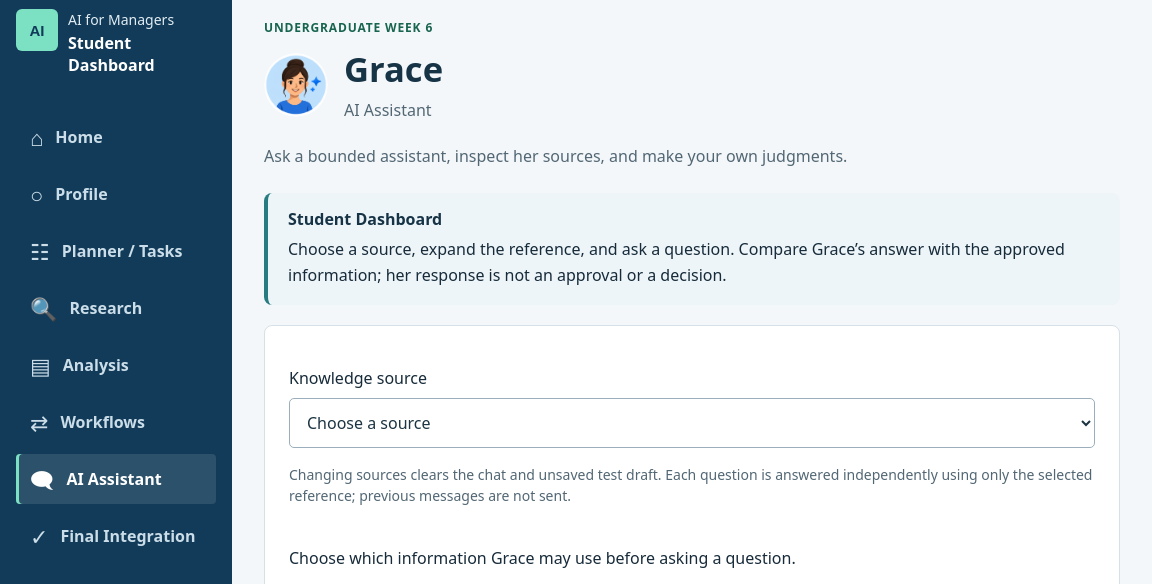
Test case: Week 6 Grace › shows an error with no fabricated answer for invalid failure
(page scrolled)
Select "Coastal Life Employee Information" in the dropdown labelled "Knowledge source" at (692,423), box top-left (289, 398), bottom-right (1095, 448)
(page scrolled)
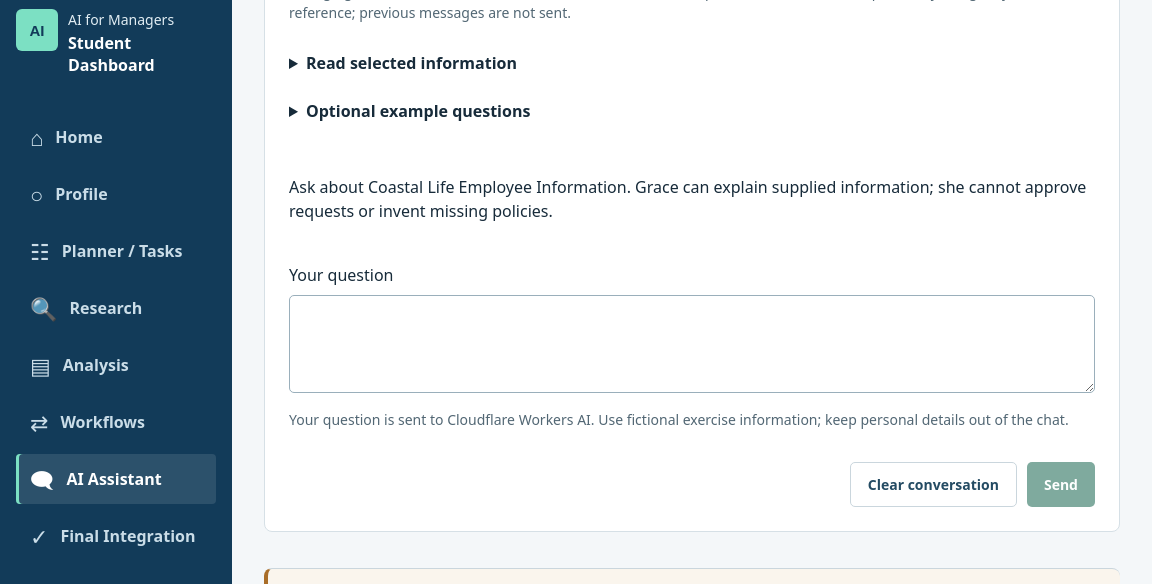
Type "PTO?" into the text box labelled "Your question" at (692,344), box top-left (289, 295), bottom-right (1095, 393)
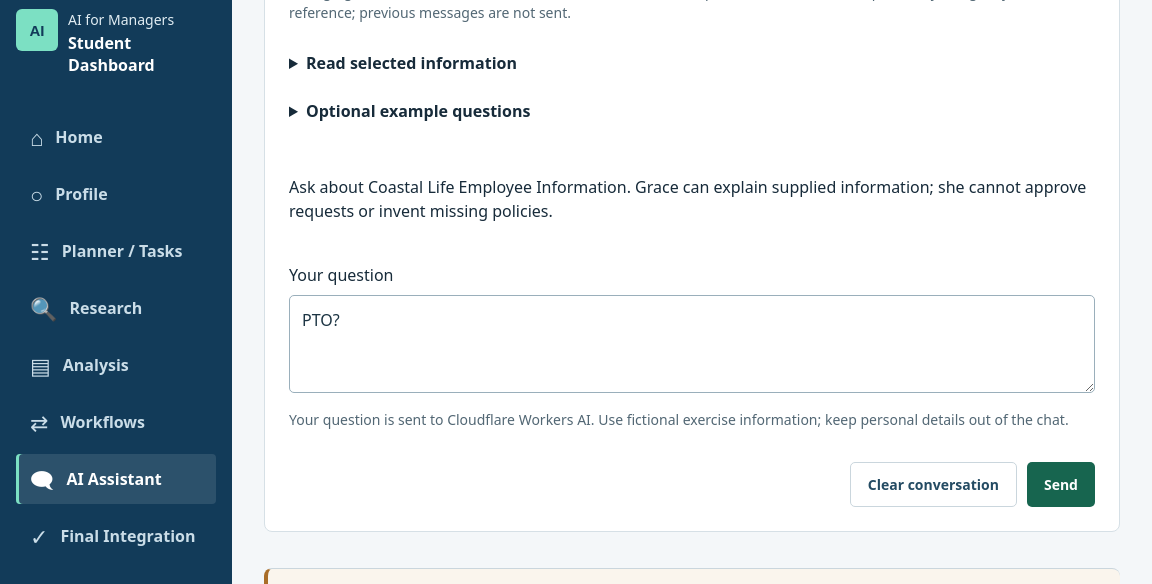
Click the button "Send" at (1061,484), box top-left (1027, 462), bottom-right (1095, 507)
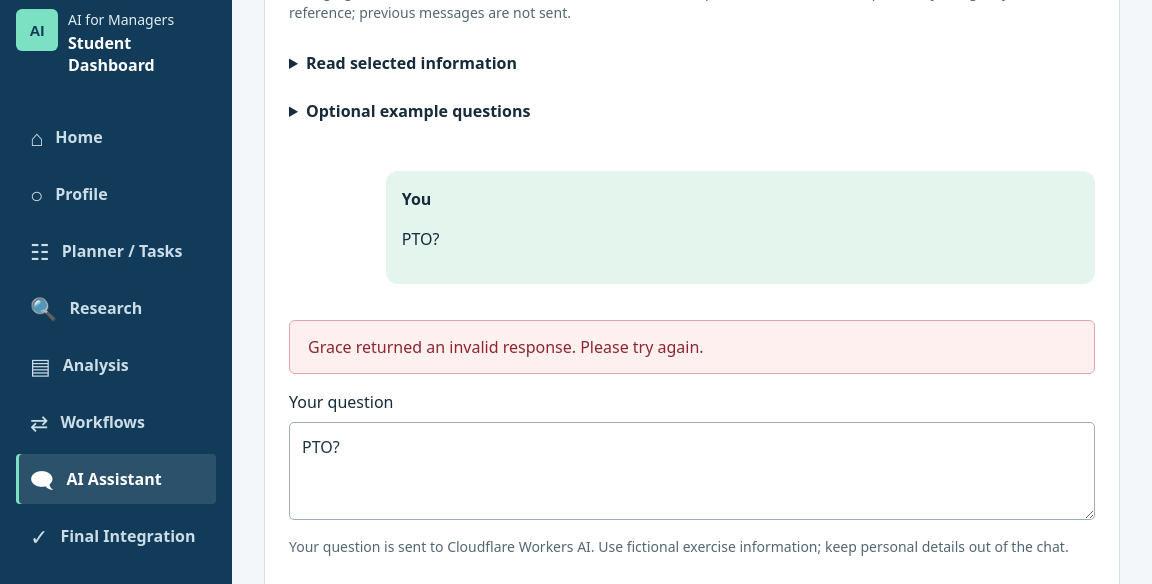
expect the message "Grace returned an invalid response. Please try again." is shown: met, box top-left (289, 320), bottom-right (1095, 374)
